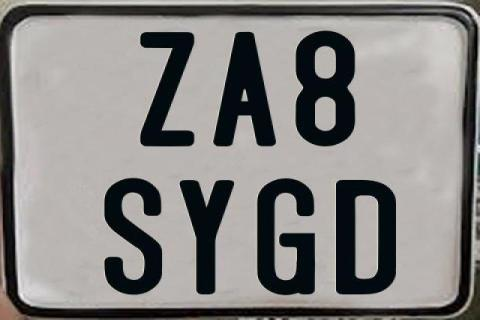0: (294, 30, 358, 148)
A: (212, 31, 278, 149)
D: (334, 180, 400, 298)
G: (254, 177, 315, 299)
S: (104, 178, 166, 300)
Y: (179, 179, 238, 293)
Z: (140, 31, 199, 145)
